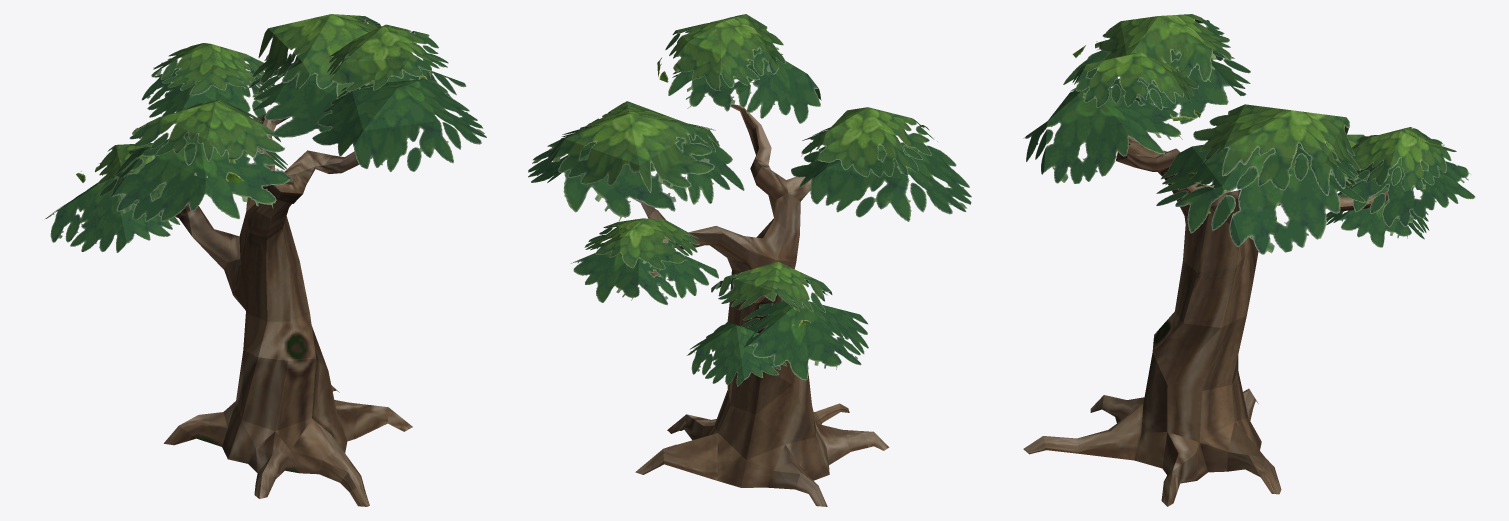
The model's file is plant_lobbynew02_zhiwu_shu06.FBX.
The picture shows the model from 3 angles, left to right: view 1: azimuth 30°, elevation 25°; view 2: azimuth 150°, elevation 25°; view 3: azimuth 270°, elevation 25°; orthographic projection. The views are drawn at different scales.
Visible parts, largest first — view 1: plant_lobbynew02_zhiwu_shu06; view 2: plant_lobbynew02_zhiwu_shu06; view 3: plant_lobbynew02_zhiwu_shu06.
Boxes of the visible parts, x1,y1,x2,y2 form: plant_lobbynew02_zhiwu_shu06: (45,14,486,506); plant_lobbynew02_zhiwu_shu06: (528,14,971,506); plant_lobbynew02_zhiwu_shu06: (1023,14,1475,506).
Size of the model in its own units: 495 by 494 by 487.
